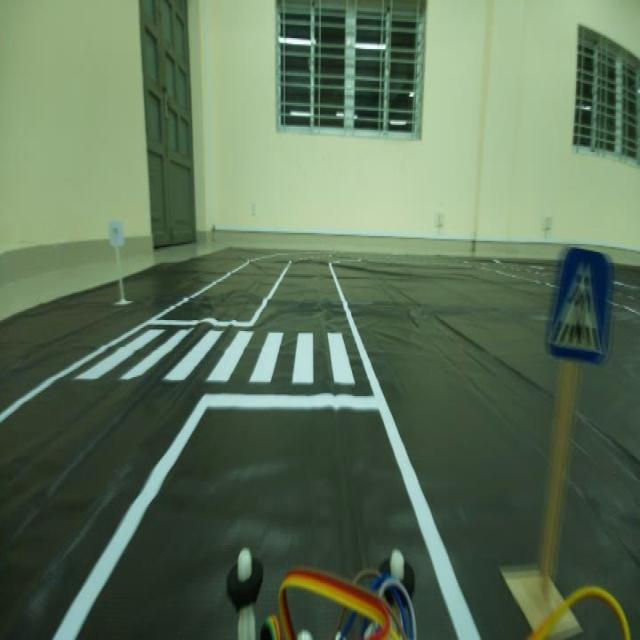crosswalk: (544, 233, 615, 372)
